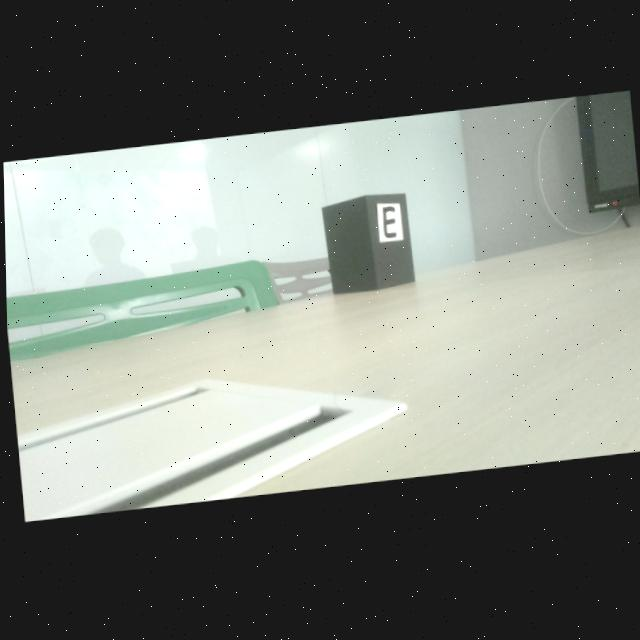E: (381, 210, 395, 241)
